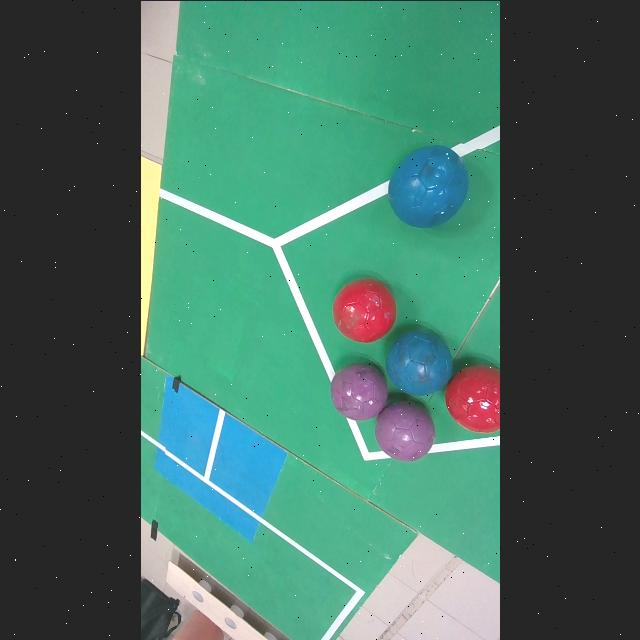B: (387, 145, 467, 227), (385, 330, 452, 395)
P: (375, 400, 434, 461), (330, 363, 387, 419)
R: (333, 278, 394, 342), (445, 364, 500, 432)
